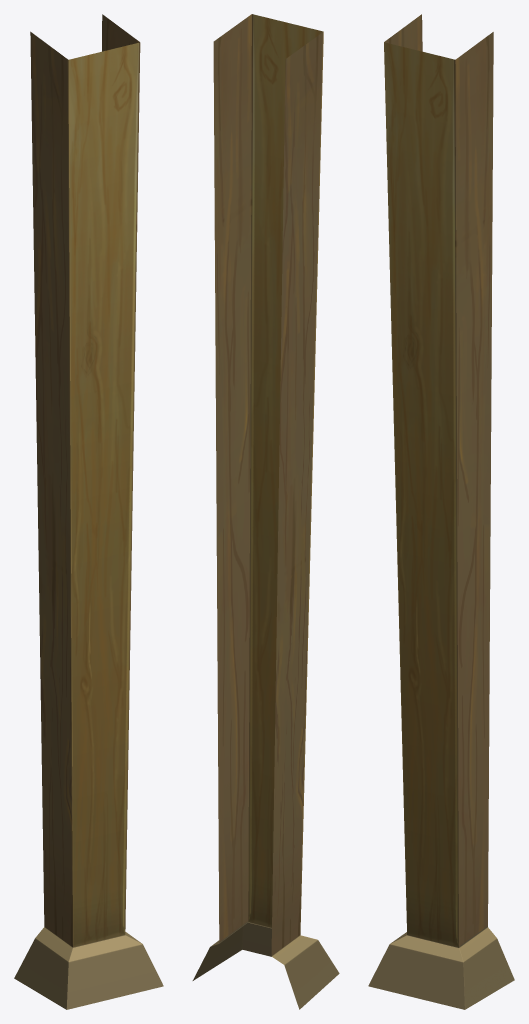
The model's file is Pillar.fbx.
The picture shows the model from 3 angles, left to right: view 1: azimuth 30°, elevation 25°; view 2: azimuth 150°, elevation 25°; view 3: azimuth 330°, elevation 25°; orthographic projection.
Visible parts, largest first — view 1: Pillar_01; view 2: Pillar_01; view 3: Pillar_01.
Boxes of the visible parts, x1,y1,x2,y2 form: Pillar_01: [14, 14, 163, 1009]; Pillar_01: [192, 14, 339, 1009]; Pillar_01: [368, 14, 514, 1009].
Bounding box in the file's own units: 3.58 × 29.52 × 2.63.
